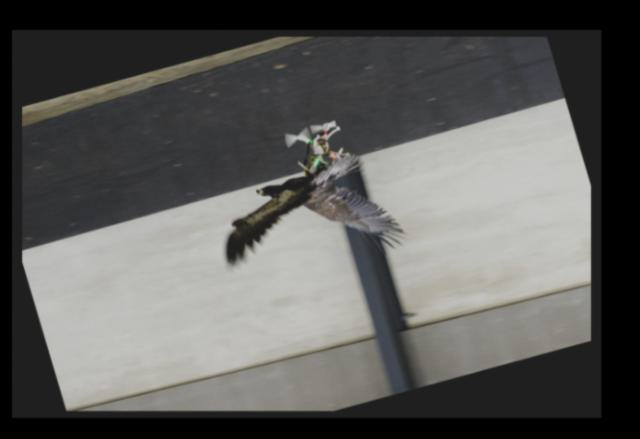Bird: (224, 142, 401, 271)
UAV: (279, 121, 347, 166)
